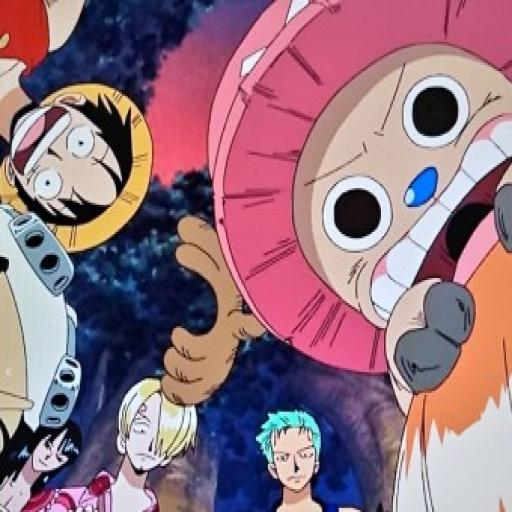Luffy: (0, 60, 158, 256)
NicoRobin: (22, 406, 90, 480)
Zoro: (250, 393, 328, 496)
sanji: (104, 376, 202, 479)
